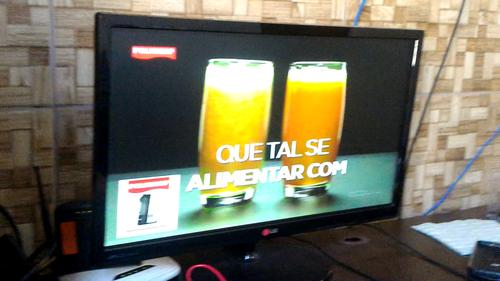Polishop #1: (114, 174, 181, 239)
